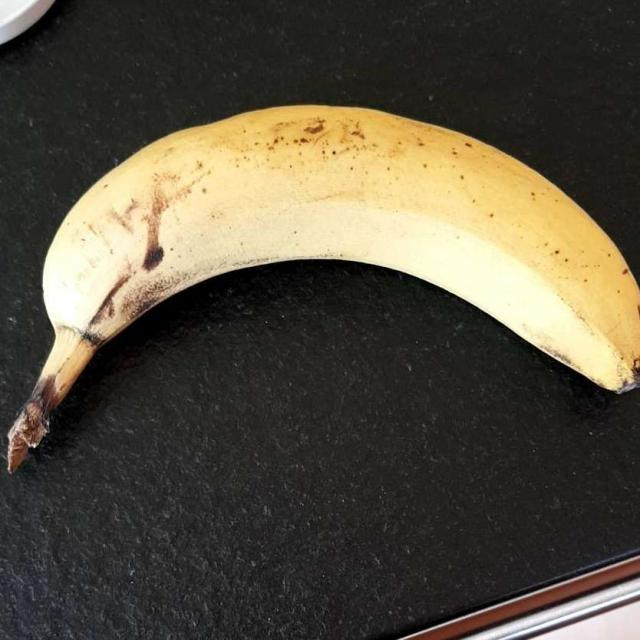banana: (4, 125, 628, 466)
